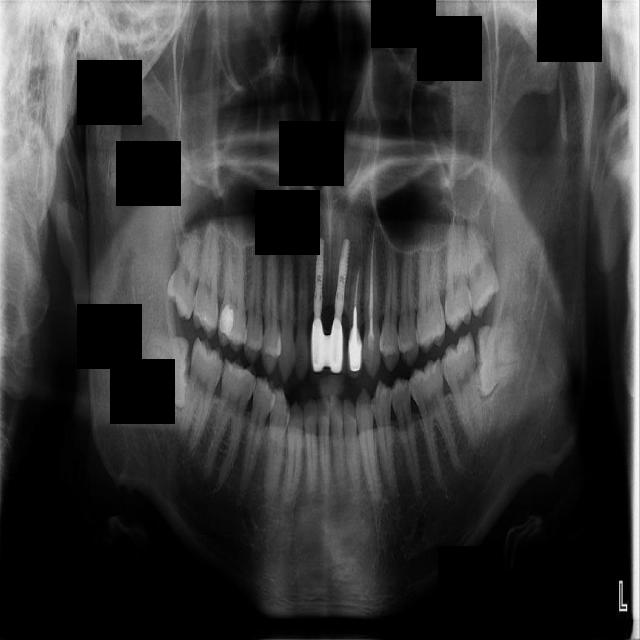3M ESPE Implant: (163, 226, 205, 322)
52: (217, 299, 247, 351), (308, 316, 327, 383), (327, 316, 346, 382), (362, 325, 384, 380), (345, 323, 363, 377)
73: (361, 225, 380, 330), (348, 262, 361, 327), (602, 554, 608, 562)
BioHorizons Implant: (444, 215, 473, 333)
BioLife Implant: (460, 208, 502, 321)
Biomet 3i Implant: (471, 324, 526, 398)
Blue Sky Bio Implant: (437, 331, 489, 453)
Caries: (191, 224, 221, 339)
Implant: (175, 337, 228, 458)
Keystone Dental Implant: (143, 333, 192, 409)
